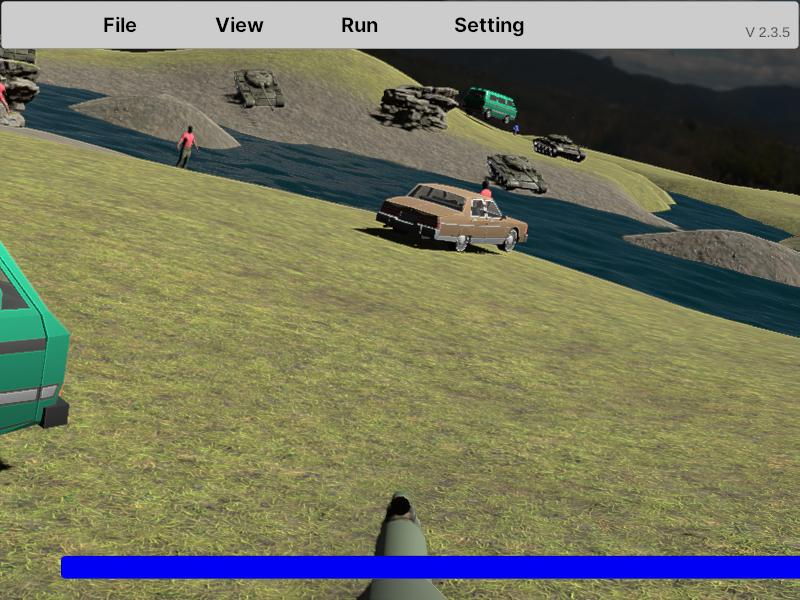Human: (175, 125, 198, 176), (0, 65, 11, 131)
Tank: (486, 152, 549, 194), (233, 64, 285, 111), (528, 133, 587, 164)
car: (0, 205, 70, 484), (375, 183, 529, 255), (460, 86, 517, 128)
